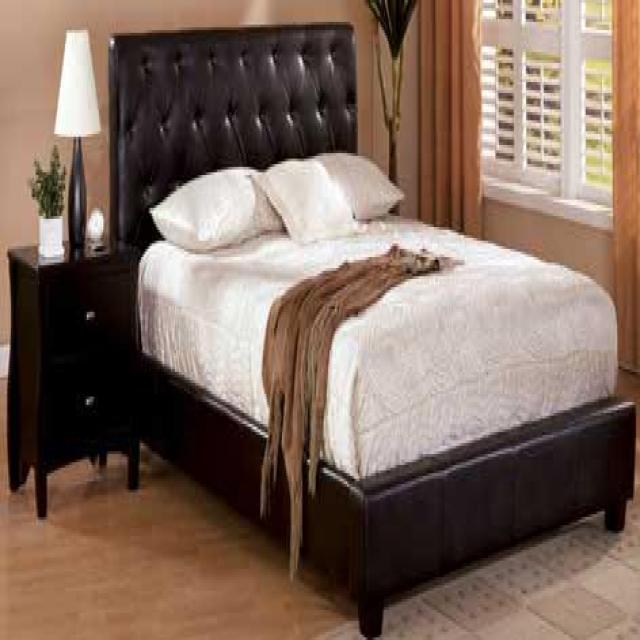bed: (107, 19, 635, 637)
